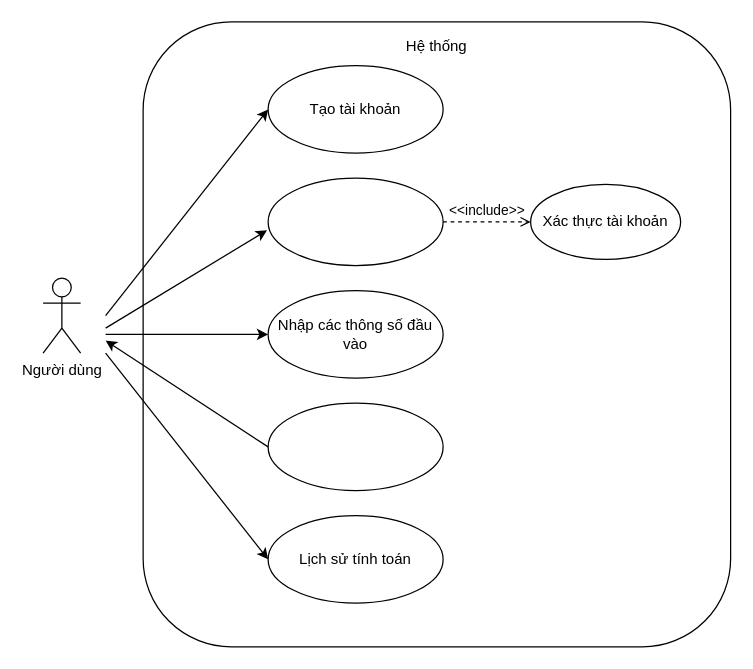
This 753x669 diagram has some shape labels left out. The shapes that lost their labels are listed below. From the top down, each one's centre as x and y in pixels, then its label:
At point 355,221: "Đăng nhập".
At point 355,446: "Tính toán và kiểm tra".
